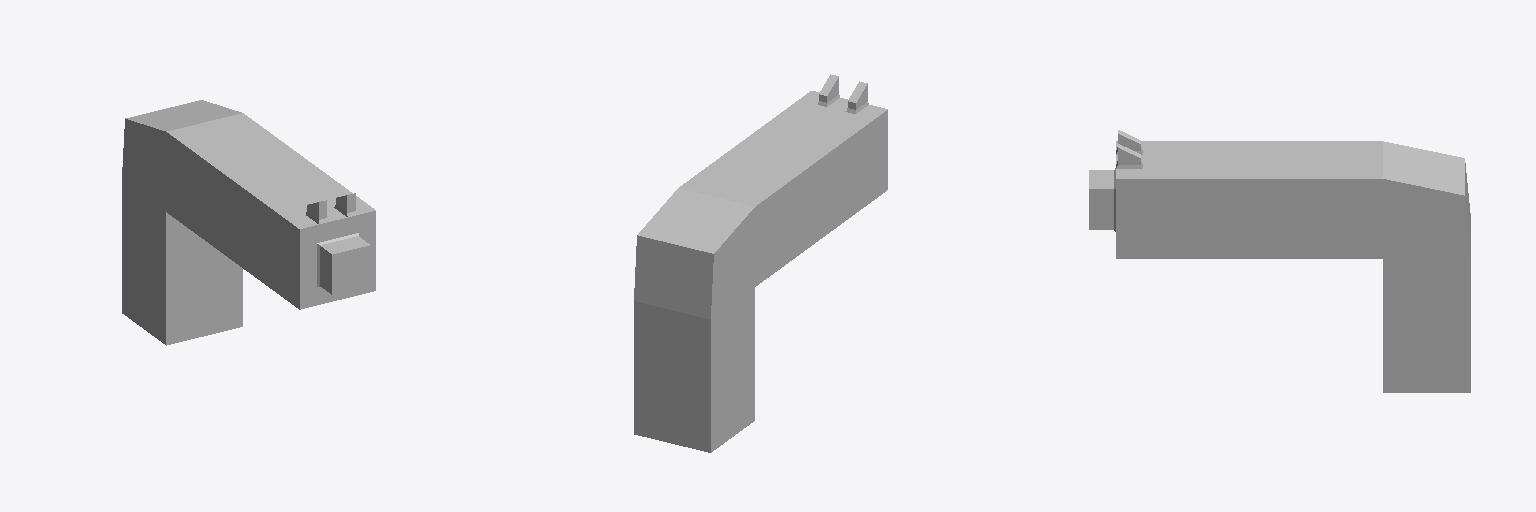
File: base_gun.obj
3 views of the same model, side by side, from view 1: azimuth 30°, elevation 25°; view 2: azimuth 150°, elevation 25°; view 3: azimuth 270°, elevation 25° (orthographic).
Parts seen in each view (by area): view 1: pCube1; view 2: pCube1; view 3: pCube1.
Part boxes in pixels (left/top/right/bottom): pCube1: left=122, top=100, right=375, bottom=345; pCube1: left=634, top=74, right=887, bottom=452; pCube1: left=1089, top=130, right=1470, bottom=392.
Bounding box in the file's own units: 9.42 × 27.56 × 40.59.